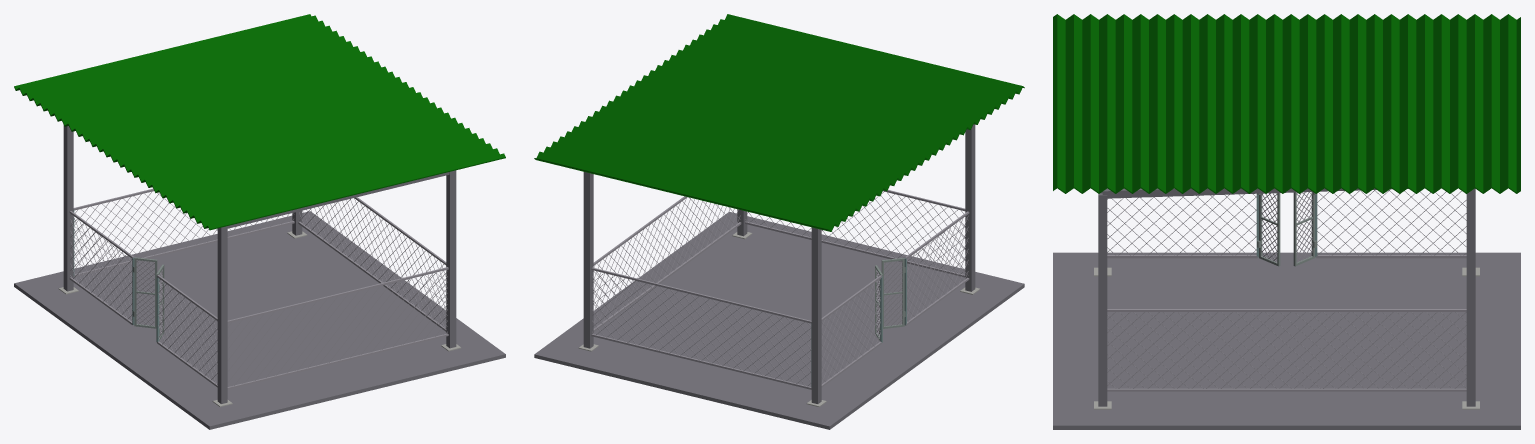
The model's file is SteelRoofV10_DoubleGate_FIXED.glb.
3 renders of one model, left to right at view 1: azimuth 30°, elevation 25°; view 2: azimuth 150°, elevation 25°; view 3: azimuth 270°, elevation 25°, orthographic. The views are drawn at different scales.
Parts seen in each view (by area): view 1: Green_Corrugated_Roof, White_Floor, Column_FL, Column_FR, Column_BL, Gate_Left_Leaf, Beam_Front, Fence_Front_Full_Top, Fence_Front_Full_Bottom, Fence_Back_Bottom, Fence_Right_Bottom; view 2: Green_Corrugated_Roof, White_Floor, Column_BL, Column_BR, Column_FL, Gate_Right_Leaf, Fence_Back_Top, Fence_Back_Bottom, Fence_Front_Full_Bottom, Fence_Right_Bottom; view 3: Green_Corrugated_Roof, White_Floor, Column_BR, Column_FR, Fence_Right_Bottom, Gate_Left_Leaf, Gate_Right_Leaf, Fence_Right_Top, Beam_Right, Fence_Gable_A_Bottom, Fence_Gable_B_Bottom.
Part boxes in pixels (x1,y1,x2,y2): Green_Corrugated_Roof: (14, 14, 505, 230); White_Floor: (14, 211, 505, 429); Column_FL: (217, 226, 227, 403); Column_FR: (446, 170, 456, 348); Column_BL: (63, 125, 73, 291); Gate_Left_Leaf: (134, 257, 157, 328); Beam_Front: (227, 172, 449, 228); Fence_Front_Full_Top: (227, 267, 448, 323); Fence_Front_Full_Bottom: (227, 333, 448, 389); Fence_Back_Bottom: (73, 221, 294, 276); Fence_Right_Bottom: (298, 221, 446, 331); Green_Corrugated_Roof: (534, 14, 1024, 231); White_Floor: (534, 211, 1024, 429); Column_BL: (811, 227, 821, 403); Column_BR: (583, 172, 593, 348); Column_FL: (965, 124, 975, 291); Gate_Right_Leaf: (881, 258, 904, 328); Fence_Back_Top: (591, 267, 811, 323); Fence_Back_Bottom: (591, 334, 811, 389); Fence_Front_Full_Bottom: (745, 221, 965, 277); Fence_Right_Bottom: (593, 222, 741, 331); Green_Corrugated_Roof: (1053, 14, 1520, 193); White_Floor: (1053, 252, 1520, 429); Column_BR: (1466, 188, 1475, 406); Column_FR: (1098, 193, 1107, 406); Fence_Right_Bottom: (1107, 388, 1466, 391); Gate_Left_Leaf: (1293, 192, 1314, 266); Gate_Right_Leaf: (1259, 193, 1280, 266); Fence_Right_Top: (1107, 309, 1466, 311); Beam_Right: (1102, 188, 1408, 198); Fence_Gable_A_Bottom: (1107, 255, 1257, 258); Fence_Gable_B_Bottom: (1316, 255, 1466, 258).
Bounding box in the file's own units: 7 × 4.59 × 8.
